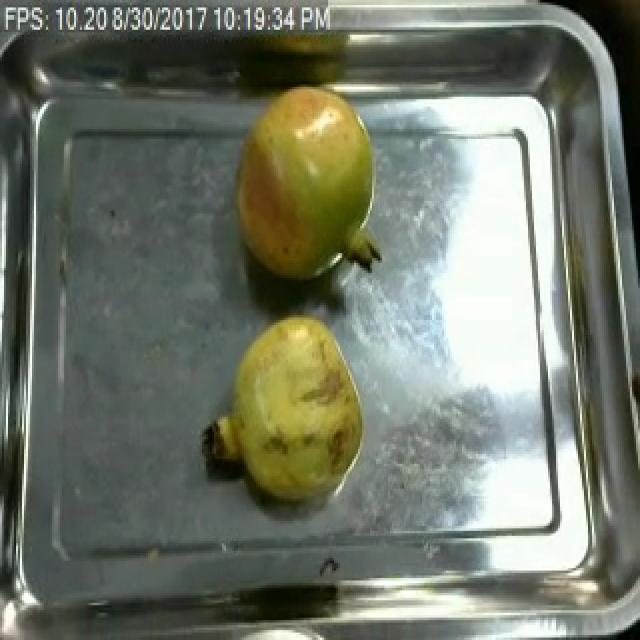fruit: (204, 305, 370, 516), (226, 77, 390, 290)
